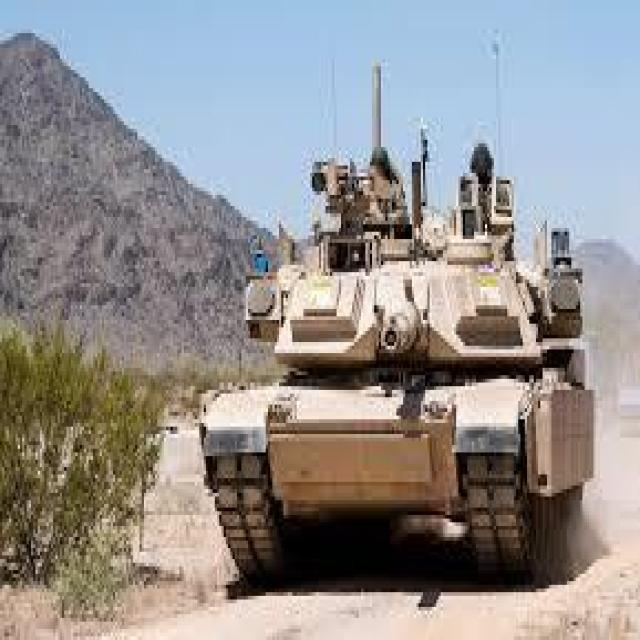Tanks: (195, 88, 613, 581)
